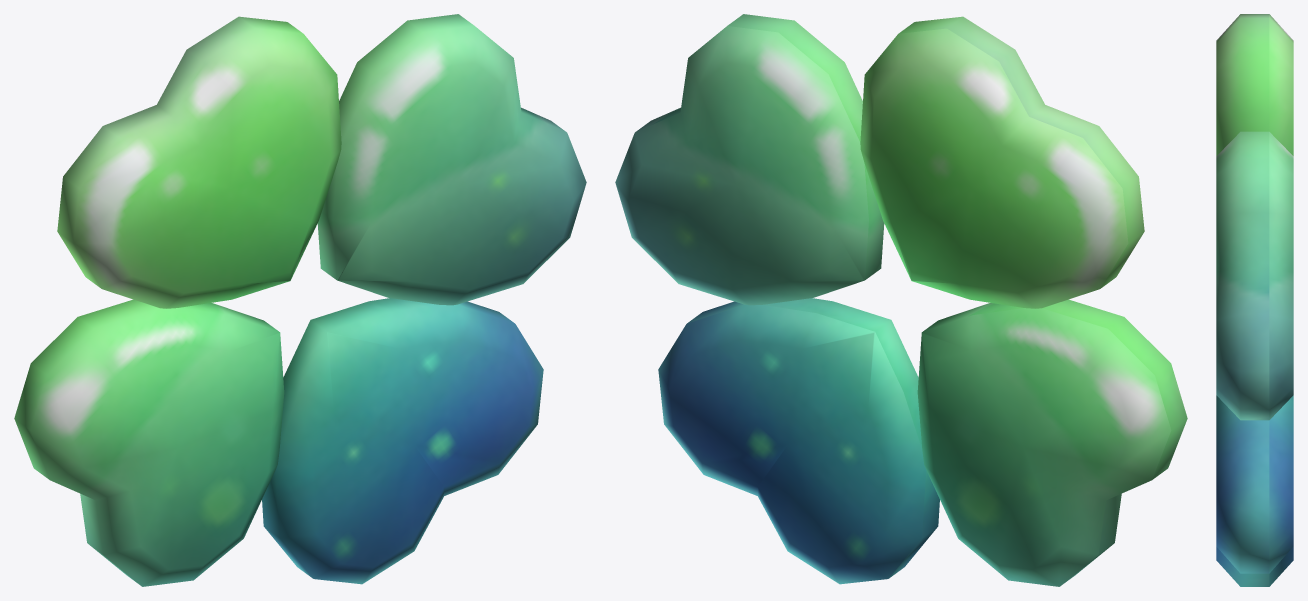
File: scenes_common_tools04a.FBX
3 views of the same model, side by side, from view 1: azimuth 30°, elevation 25°; view 2: azimuth 150°, elevation 25°; view 3: azimuth 270°, elevation 25° (orthographic). The views are drawn at different scales.
Parts seen in each view (by area): view 1: scenes_common_tools04a; view 2: scenes_common_tools04a; view 3: scenes_common_tools04a.
Part boxes in pixels (x1,y1,x2,y2): scenes_common_tools04a: (14, 14, 586, 586); scenes_common_tools04a: (615, 14, 1187, 586); scenes_common_tools04a: (1216, 14, 1293, 586).
Bounding box in the file's own units: 76.85 × 76.85 × 10.38.
